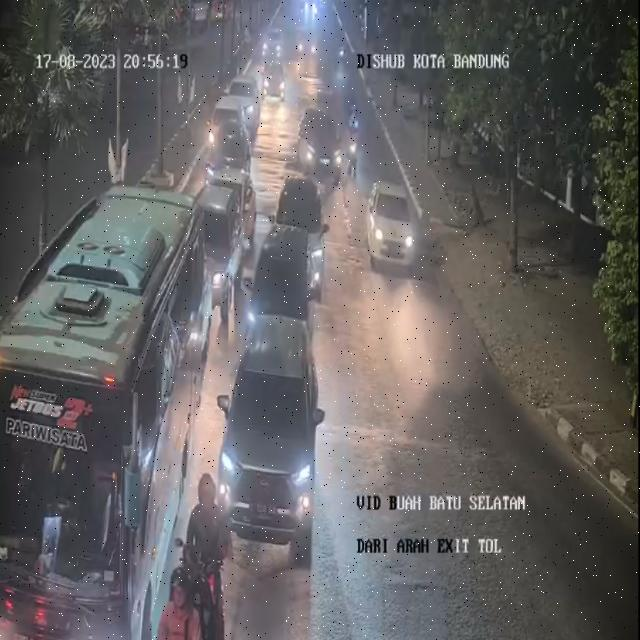bus: (0, 186, 212, 638)
cars: (214, 312, 321, 567), (241, 221, 319, 364), (194, 182, 242, 317), (273, 172, 326, 287), (362, 172, 418, 275), (208, 113, 259, 204), (302, 98, 344, 189), (203, 96, 252, 150), (231, 75, 263, 127), (264, 58, 286, 100), (293, 25, 316, 62), (264, 26, 284, 62)
motorcycle: (184, 476, 228, 640), (162, 565, 198, 640), (344, 100, 362, 158)
